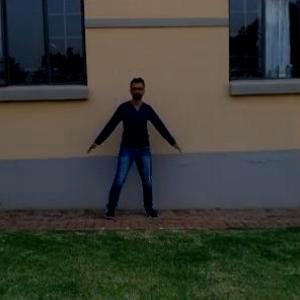land: (83, 82, 179, 229)
